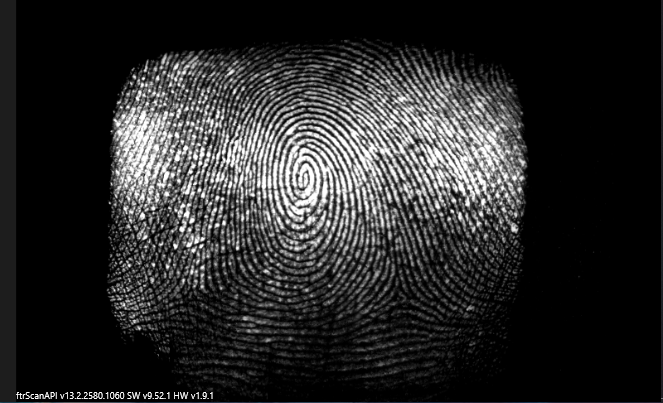deltas: (162, 264, 229, 319), (371, 266, 428, 324)
nucleo: (277, 152, 328, 204)
